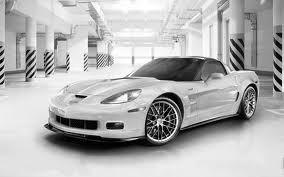car: (42, 55, 264, 152)
